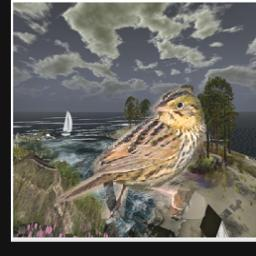Sparrow: (57, 88, 205, 219)
